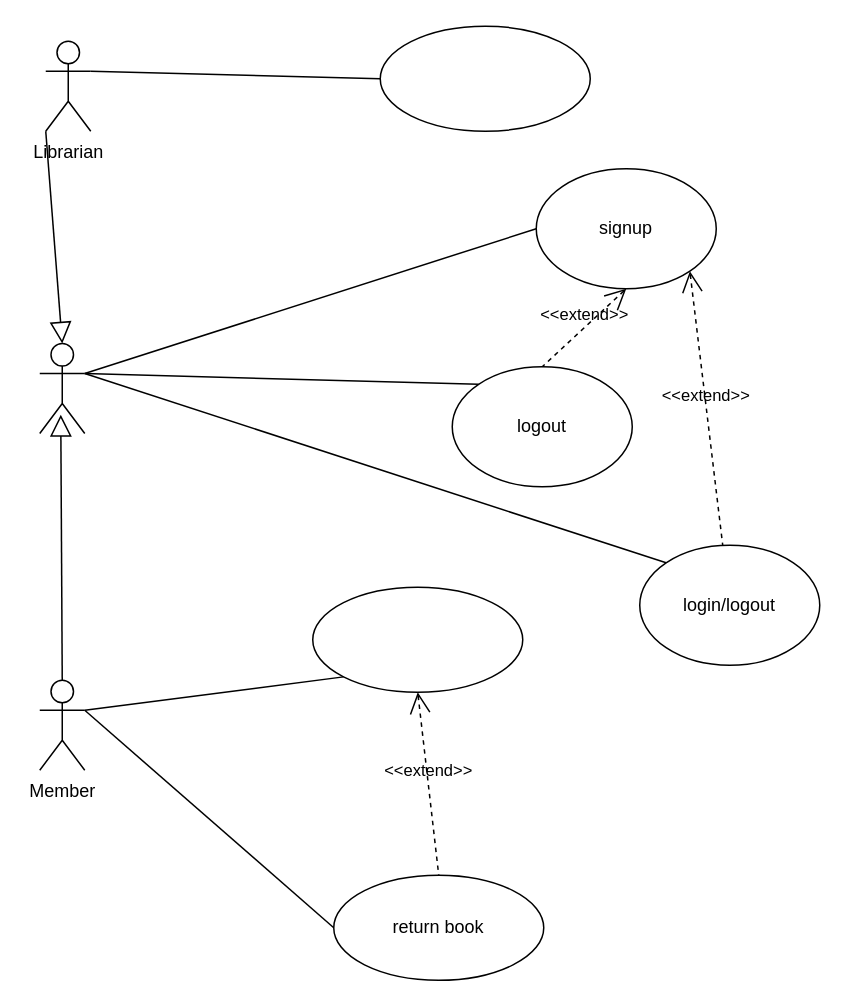
Image size: 846x1007. Some labels were removed from this diagram. Each missing label, with the centre of its shape:
"add book" goes at [484,78].
"borrow book" goes at [417,639].
"User" goes at [61,388].
